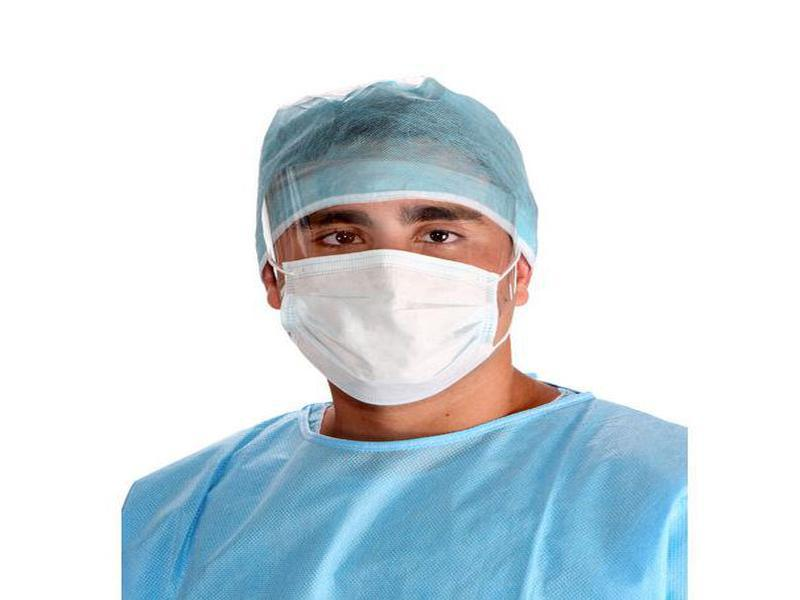with_mask: (274, 132, 518, 409)
